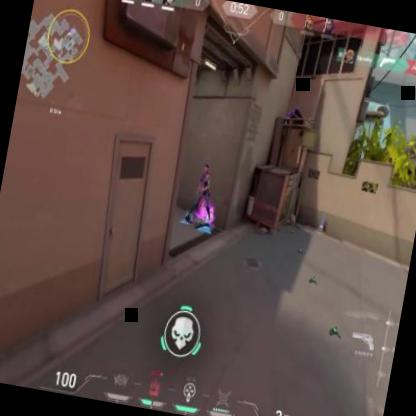enemy: (184, 162, 219, 224)
enemy_head: (203, 164, 209, 174)
